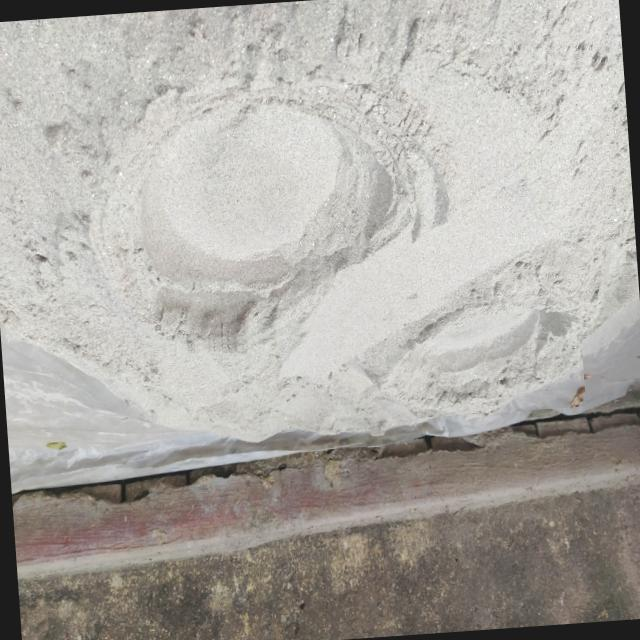C20: (112, 87, 410, 344), (391, 295, 582, 417)
